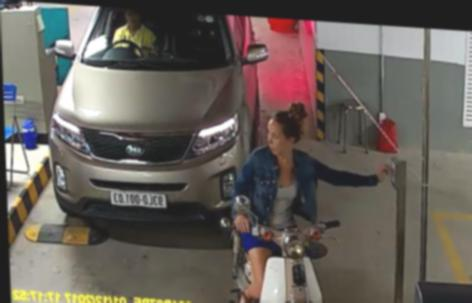License_Plate: (107, 185, 171, 212)
